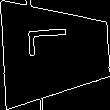L_E: (31, 35, 81, 69)
